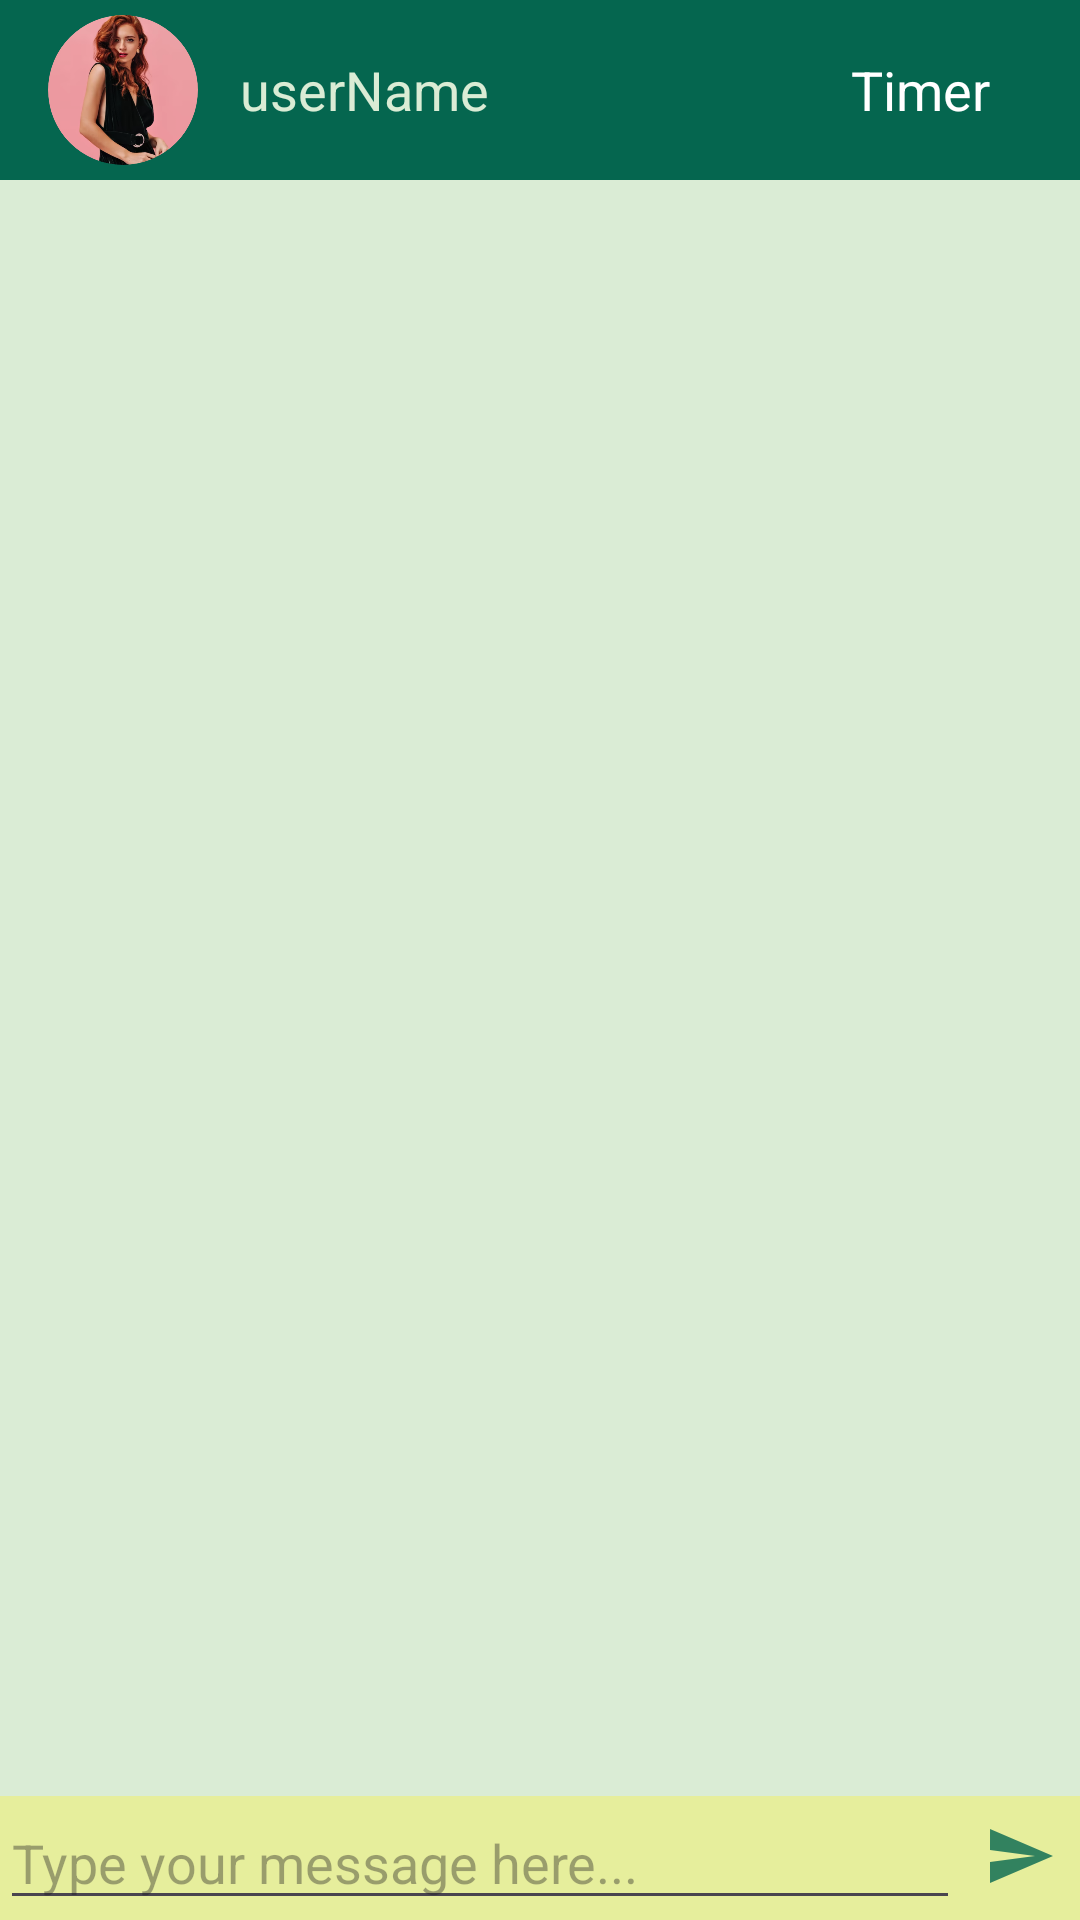

Screen size 1080px x 1920px. Icon name, then its box in pixels as (x1=x1, y1=y1, x2=x2, y2=y2):
send: (x1=990, y1=1829, x2=1053, y2=1883)
